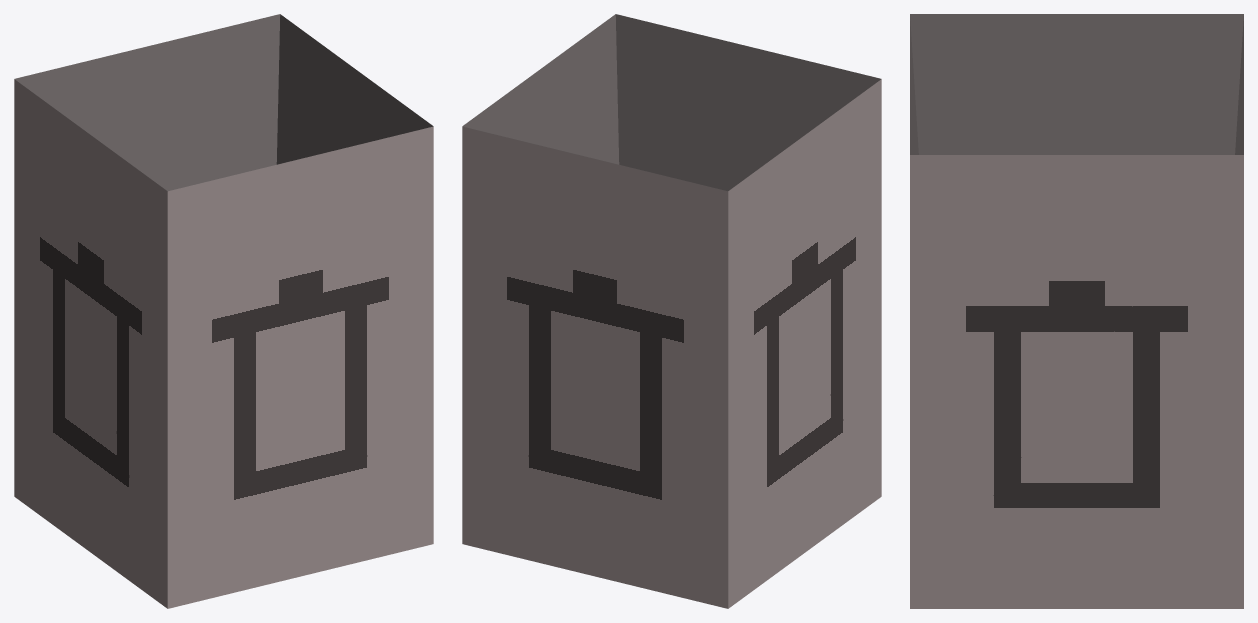
3 renders of one model, left to right at view 1: azimuth 30°, elevation 25°; view 2: azimuth 150°, elevation 25°; view 3: azimuth 270°, elevation 25°, orthographic. The views are drawn at different scales.
Parts seen in each view (by area): view 1: cuboid; view 2: cuboid; view 3: cuboid.
Boxes of the visible parts, x1,y1,x2,y2 form: cuboid: (14,14,433,608); cuboid: (462,14,881,608); cuboid: (910,14,1243,608).
Size of the model in its own units: 75 by 112 by 75.
1 material, 1 textured.
